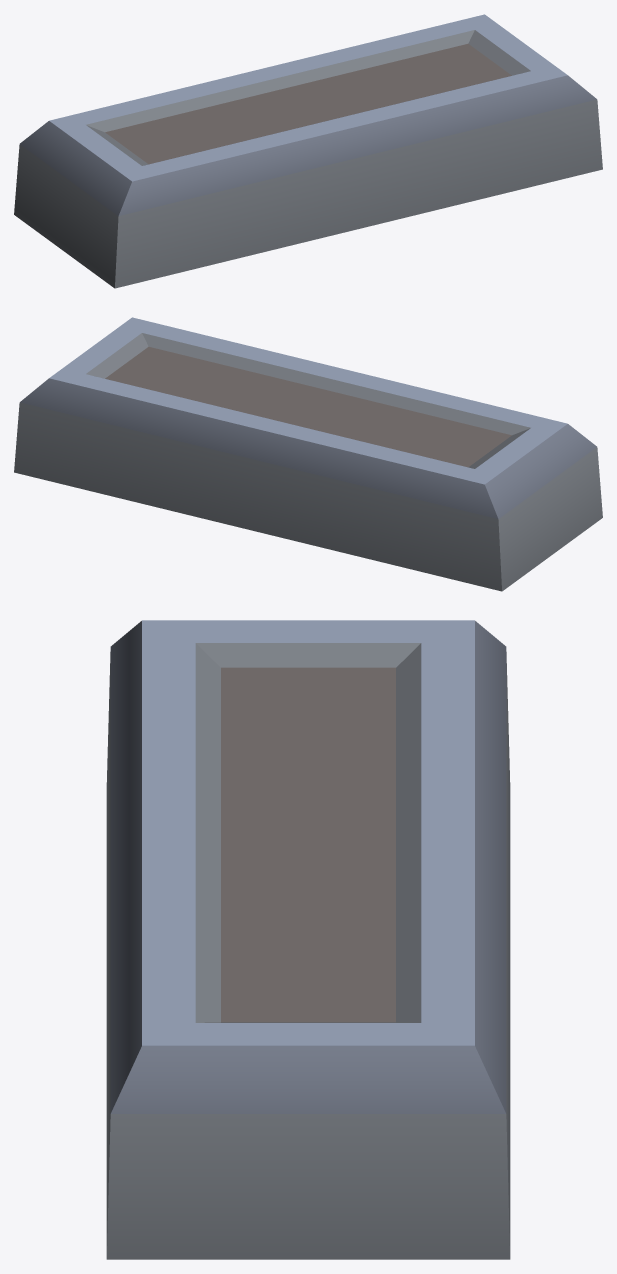
Rendered from floor_acc_00.FBX.
The picture shows the model from 3 angles, top to bottom: view 1: azimuth 30°, elevation 25°; view 2: azimuth 150°, elevation 25°; view 3: azimuth 270°, elevation 25°; orthographic projection. The views are drawn at different scales.
Visible parts, largest first — view 1: floor_acc_00; view 2: floor_acc_00; view 3: floor_acc_00.
Boxes of the visible parts, <box> form: floor_acc_00: <box>14,14,602,288</box>; floor_acc_00: <box>14,317,602,591</box>; floor_acc_00: <box>106,620,510,1259</box>.
Size of the model in its own units: 92.77 by 17.1 by 33.2.
